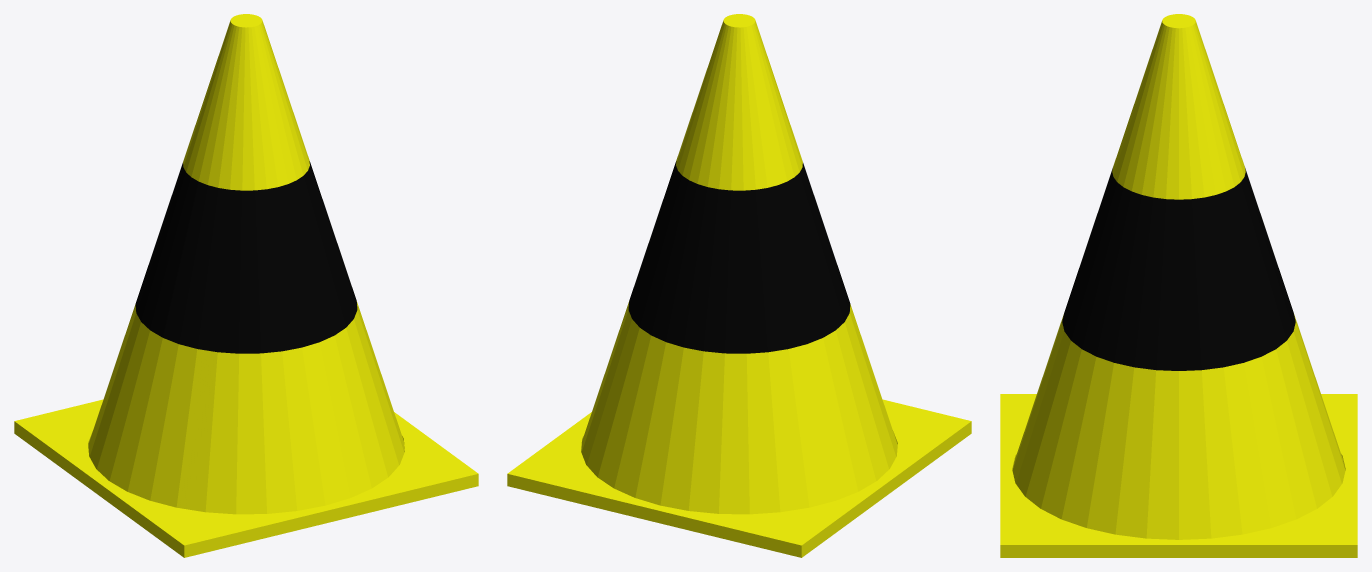
The model's file is small_yellow_cone.dae.
The picture shows the model from 3 angles, left to right: view 1: azimuth 30°, elevation 25°; view 2: azimuth 150°, elevation 25°; view 3: azimuth 270°, elevation 25°; orthographic projection. The views are drawn at different scales.
Parts seen in each view (by area): view 1: Cylinder; view 2: Cylinder; view 3: Cylinder.
Part boxes in pixels (x1,y1,x2,y2): Cylinder: (14,14,478,557); Cylinder: (507,14,971,557); Cylinder: (1000,14,1357,557).
Bounding box in the file's own units: 0.228 × 0.228 × 0.325.
